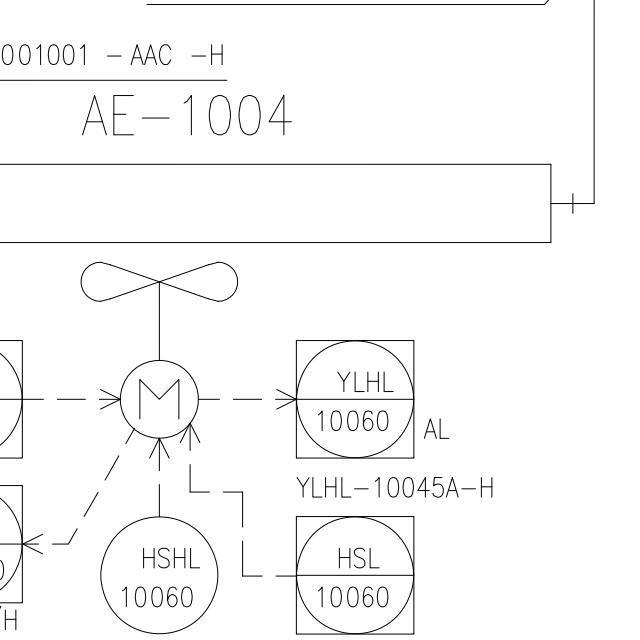M: (115, 359, 200, 439)
